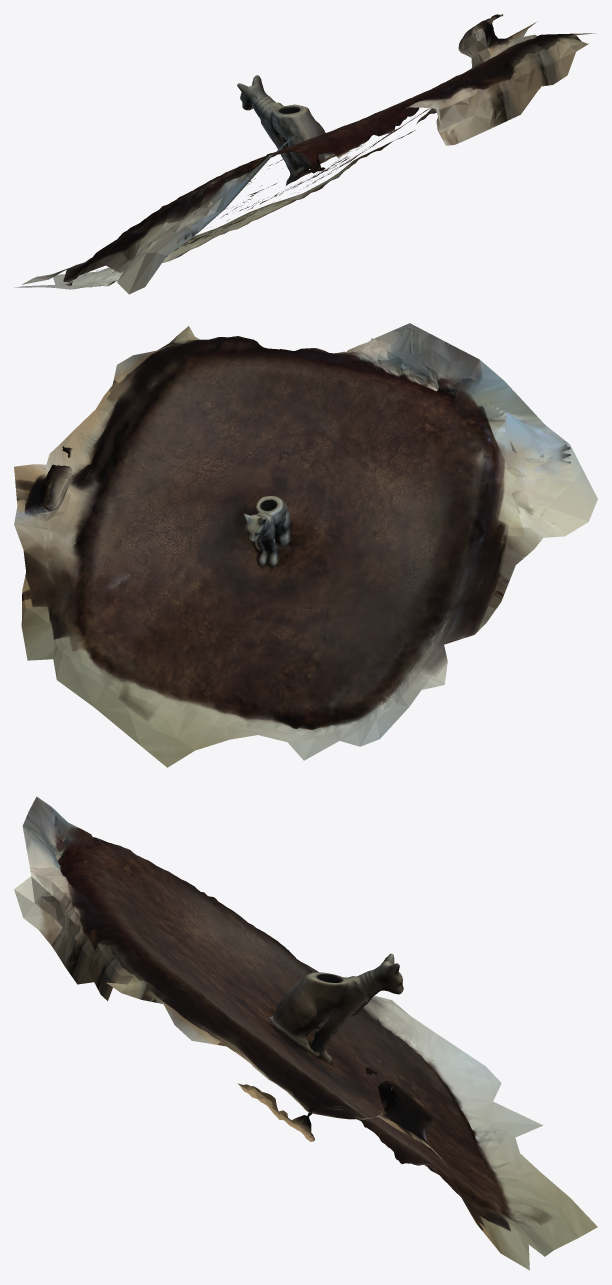
Rendered from cat.glb.
3 renders of one model, top to bottom at view 1: azimuth 30°, elevation 25°; view 2: azimuth 150°, elevation 25°; view 3: azimuth 270°, elevation 25°, orthographic. The views are drawn at different scales.
Bounding box in the file's own units: 12.01 × 7.31 × 10.05.
1 material, 1 textured.
